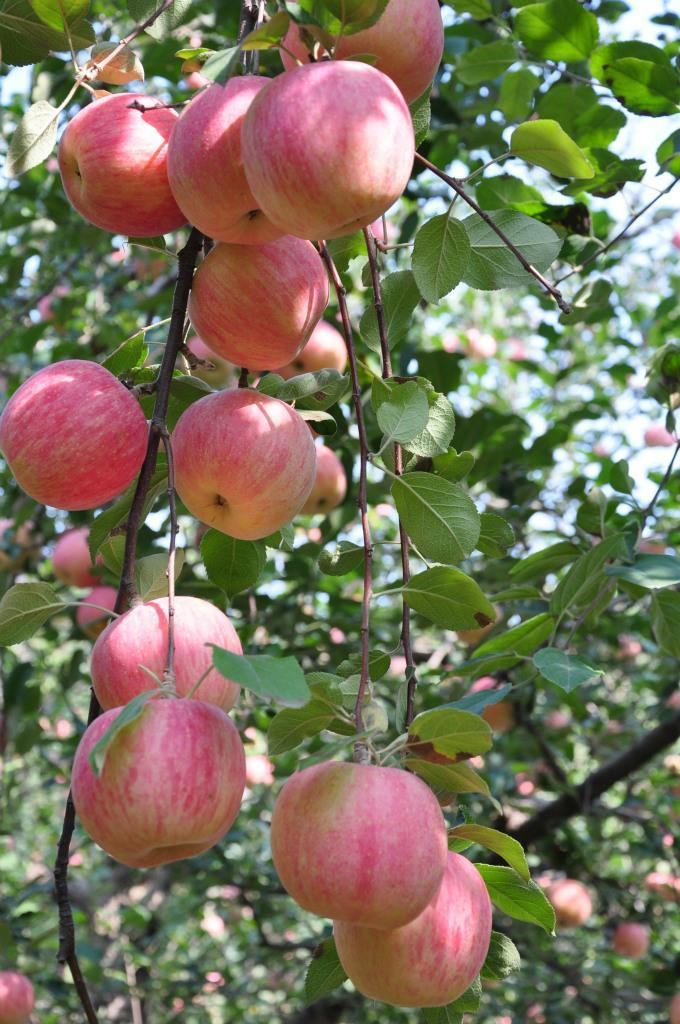apple: (272, 747, 479, 972), (244, 62, 415, 236), (69, 701, 247, 868), (330, 843, 497, 1010), (166, 390, 318, 540), (1, 361, 146, 512), (54, 93, 196, 240), (184, 233, 328, 372), (88, 595, 246, 715)
